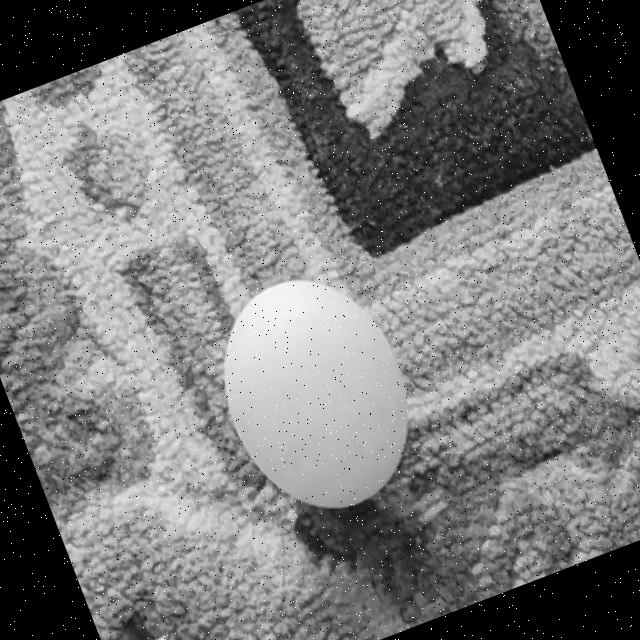ping-pong-ball: (199, 264, 434, 534)
